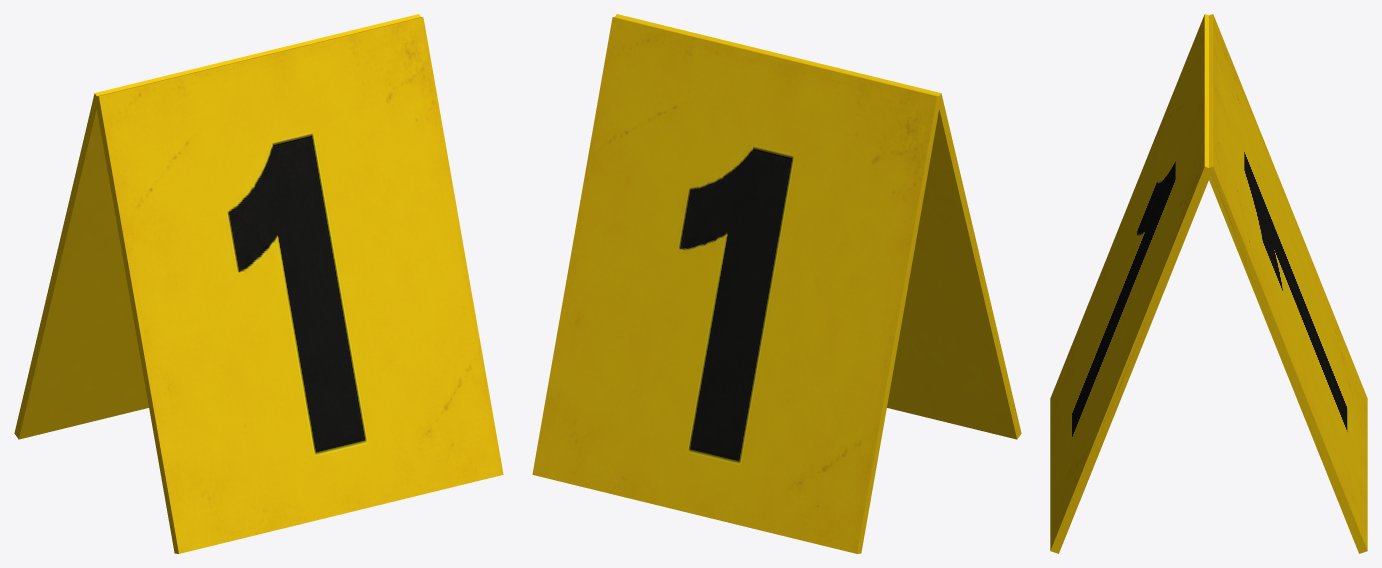
The model's file is num.fbx.
3 views of the same model, side by side, from view 1: azimuth 30°, elevation 25°; view 2: azimuth 150°, elevation 25°; view 3: azimuth 270°, elevation 25° (orthographic). The views are drawn at different scales.
Parts seen in each view (by area): view 1: pCube1, pCube2; view 2: pCube2, pCube1; view 3: pCube1, pCube2.
Boxes of the visible parts, x1,y1,x2,y2 form: pCube1: (94, 17, 503, 553); pCube2: (14, 14, 420, 439); pCube2: (532, 17, 941, 553); pCube1: (615, 14, 1021, 439); pCube1: (1050, 14, 1212, 553); pCube2: (1205, 14, 1367, 553).
Size of the model in its own units: 8 by 9.47 by 7.03.
